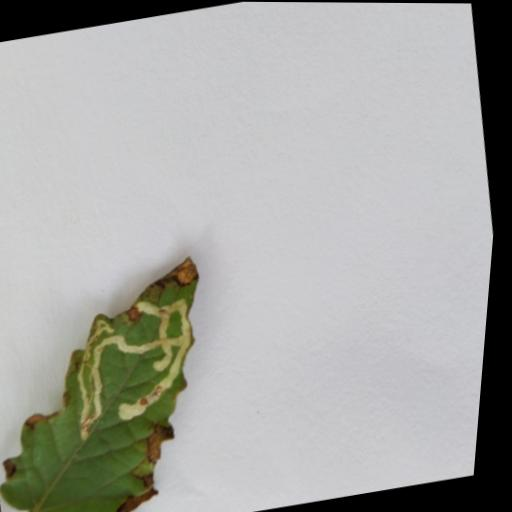Leaf_Miner: (0, 247, 249, 512)
